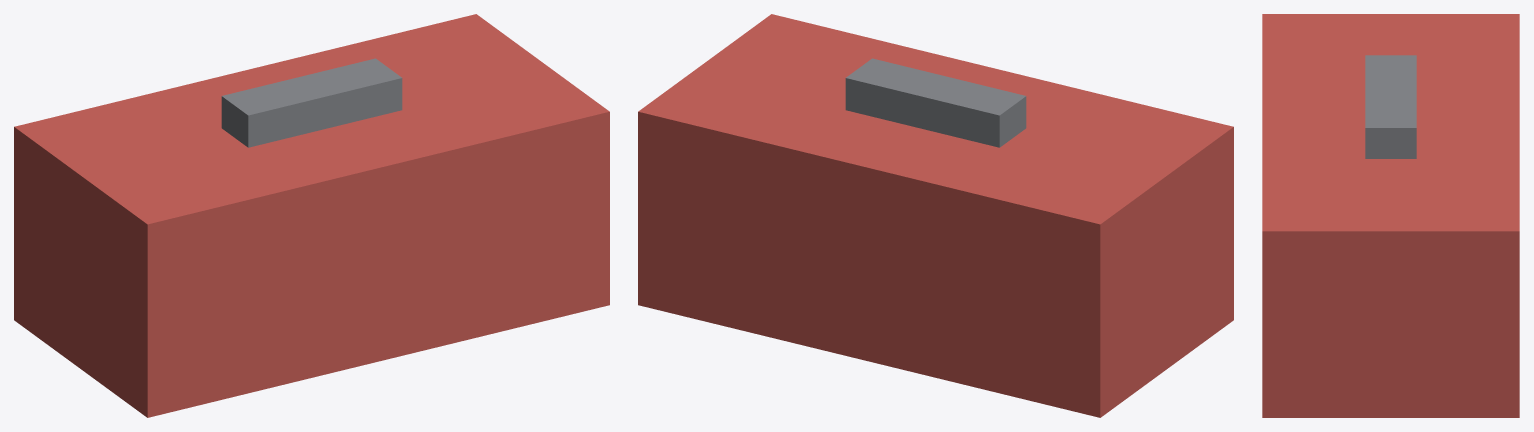
The model's file is kit_reparo.glb.
The picture shows the model from 3 angles, left to right: view 1: azimuth 30°, elevation 25°; view 2: azimuth 150°, elevation 25°; view 3: azimuth 270°, elevation 25°; orthographic projection. The views are drawn at different scales.
Visible parts, largest first — view 1: kit_reparo; view 2: kit_reparo; view 3: kit_reparo.
Part boxes in pixels (<box>): kit_reparo: <box>14,14,609,417</box>; kit_reparo: <box>638,14,1233,417</box>; kit_reparo: <box>1262,14,1519,417</box>.
Bounding box in the file's own units: 0.3 × 0.14 × 0.15.
